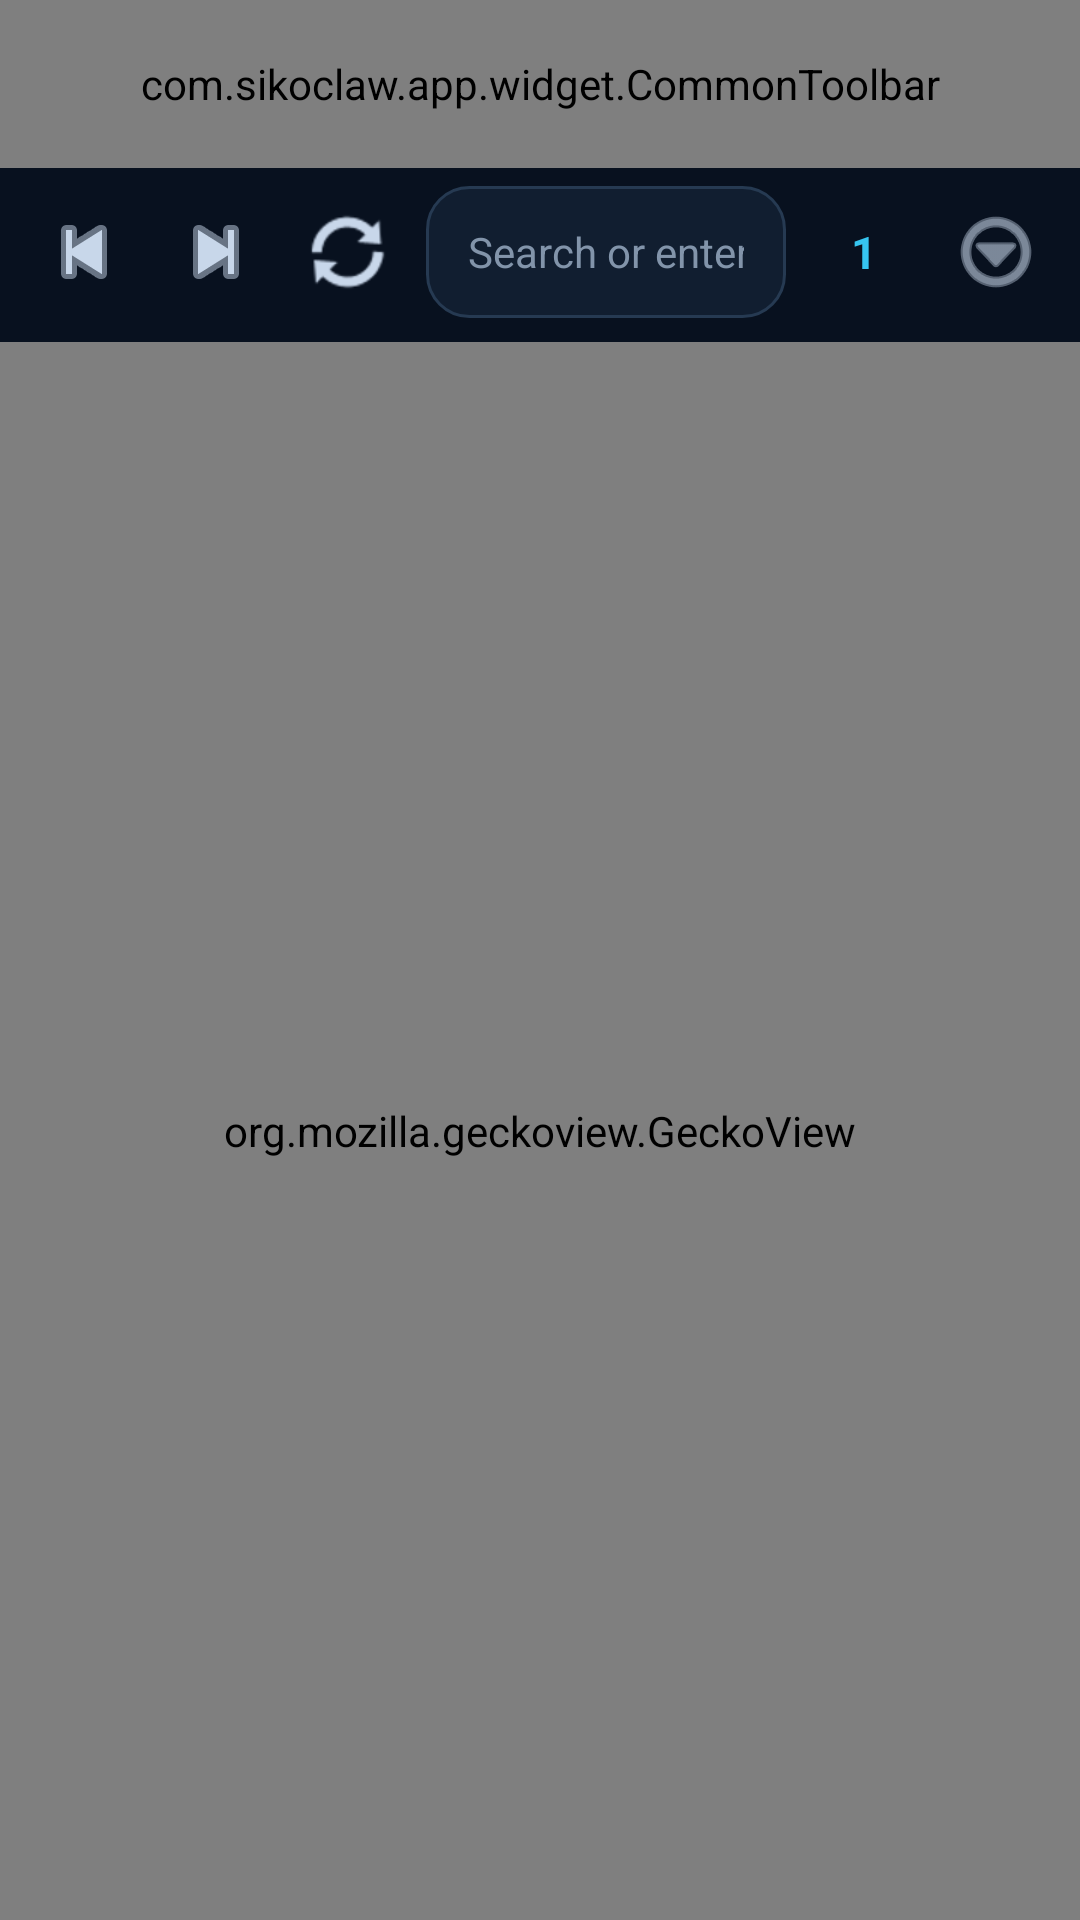

Icon click points for this 1080×1920 phone screenshot, format point (x, y):
Back: point (84, 252)
Forward: point (216, 252)
Menu: point (996, 252)
Reload: point (348, 252)
